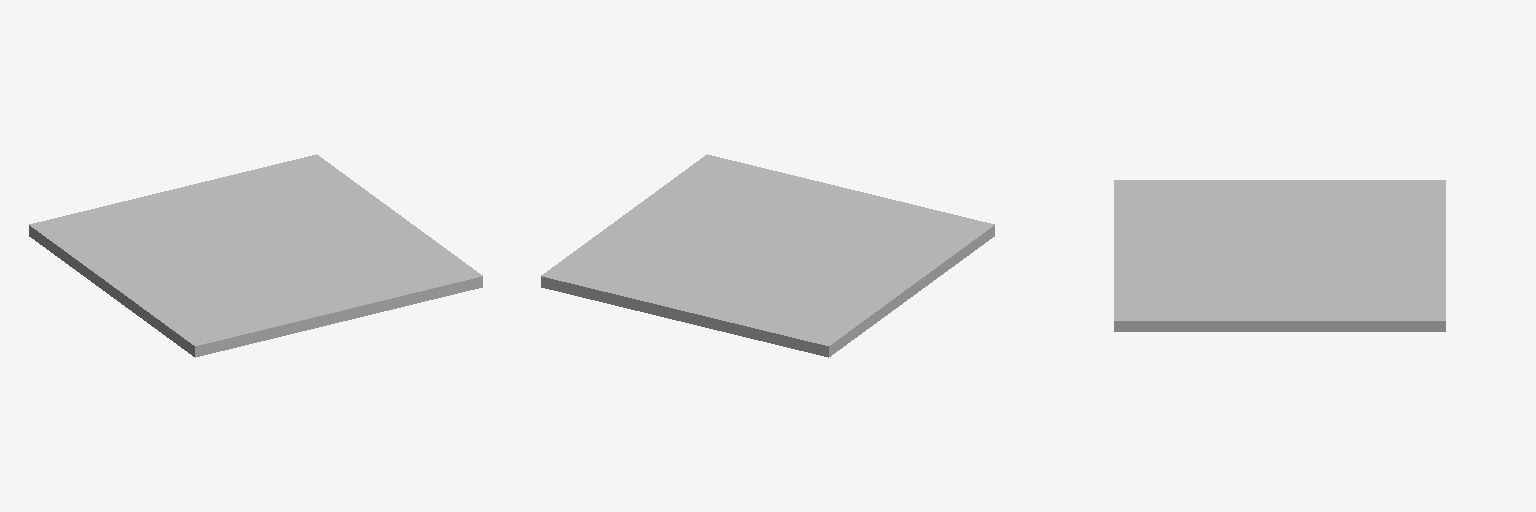
The model's file is floor.obj.
3 views of the same model, side by side, from view 1: azimuth 30°, elevation 25°; view 2: azimuth 150°, elevation 25°; view 3: azimuth 270°, elevation 25° (orthographic).
Size of the model in its own units: 27 by 1 by 27.